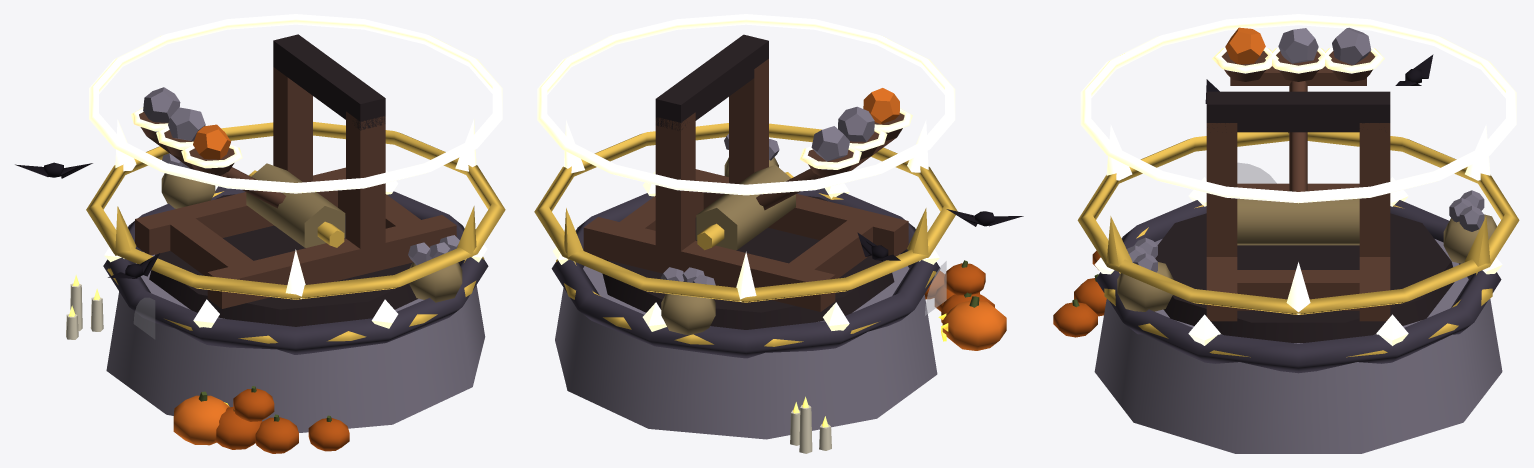
Rendered from tower_catapult_rockStorm_ultimate.glb.
3 views of the same model, side by side, from view 1: azimuth 30°, elevation 25°; view 2: azimuth 150°, elevation 25°; view 3: azimuth 270°, elevation 25° (orthographic). The views are drawn at different scales.
Visible parts, largest first — view 1: base, base_rim, ult_halo, ult_crown_band, turntable, rail_l, stop_bar, upright_l, rail_r, upright_r, torsion_rope, cross_w (+20 smaller); view 2: base, base_rim, ult_halo, ult_crown_band, turntable, rail_r, stop_bar, upright_r, upright_l, rail_l, torsion_rope, cross_w (+17 smaller); view 3: base, turntable, base_rim, ult_crown_band, ult_halo, stop_bar, torsion_rope, upright_r, upright_l, cross_e, net_sack_0, arm_beam (+26 smaller).
Boxes of the visible parts, x1,y1,x2,y2 form: base: (106, 252, 485, 432); base_rim: (103, 186, 488, 354); ult_halo: (89, 14, 502, 193); ult_crown_band: (86, 122, 505, 299); turntable: (149, 194, 417, 326); rail_l: (207, 215, 456, 308); stop_bar: (273, 34, 385, 130); upright_l: (346, 111, 385, 253); rail_r: (135, 167, 345, 255); upright_r: (273, 67, 312, 182); torsion_rope: (246, 163, 345, 247); cross_w: (156, 208, 267, 302); base: (555, 254, 937, 439); base_rim: (551, 188, 940, 358); ult_halo: (537, 14, 955, 195); ult_crown_band: (534, 123, 957, 302); turntable: (602, 196, 894, 329); rail_r: (583, 217, 835, 311); stop_bar: (655, 34, 768, 130); upright_r: (655, 112, 695, 255); upright_l: (729, 59, 768, 183); rail_l: (703, 174, 908, 256); torsion_rope: (696, 165, 795, 250); cross_w: (774, 209, 886, 306); base: (1094, 239, 1502, 453); turntable: (1155, 213, 1454, 342); base_rim: (1095, 200, 1501, 373); ult_crown_band: (1077, 132, 1519, 314); ult_halo: (1080, 14, 1516, 203); stop_bar: (1206, 91, 1390, 132); torsion_rope: (1237, 198, 1359, 245); upright_r: (1359, 123, 1390, 256); upright_l: (1206, 123, 1237, 256); cross_e: (1206, 270, 1390, 310); net_sack_0: (1117, 262, 1173, 311); arm_beam: (1289, 81, 1307, 191).
Bounding box in the file's own units: 0.4939 × 0.315 × 0.4571.
